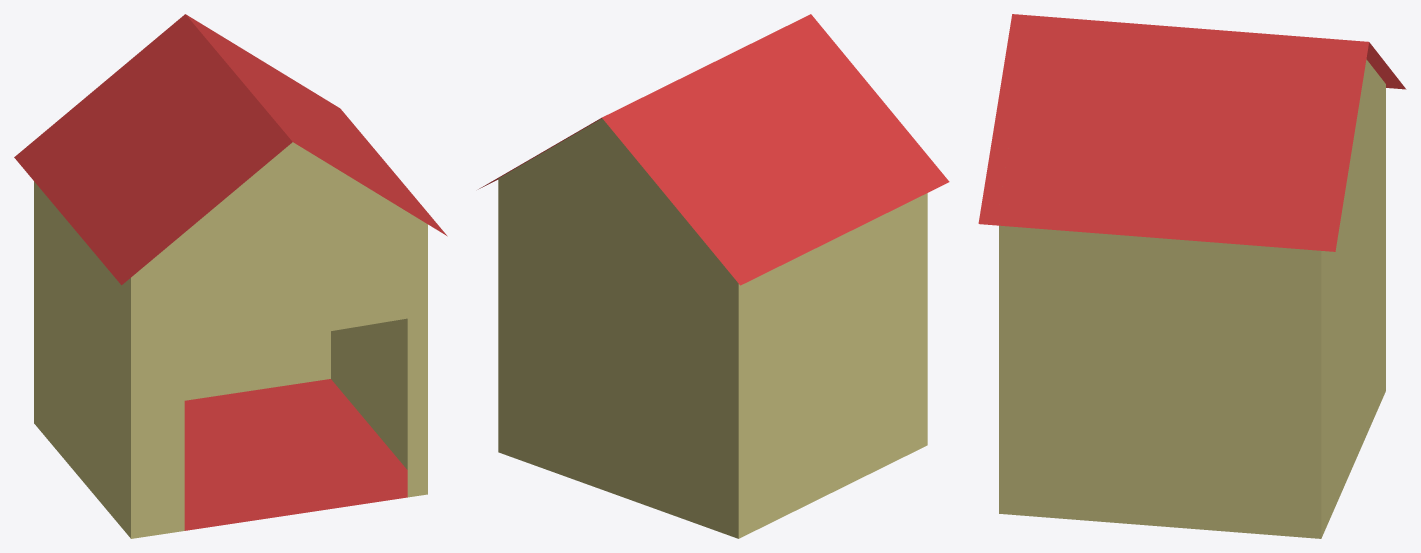
3 views of the same model, side by side, from view 1: azimuth 30°, elevation 25°; view 2: azimuth 150°, elevation 25°; view 3: azimuth 270°, elevation 25° (orthographic). The views are drawn at different scales.
Bounding box in the file's own units: 12.74 × 12.11 × 13.38.
